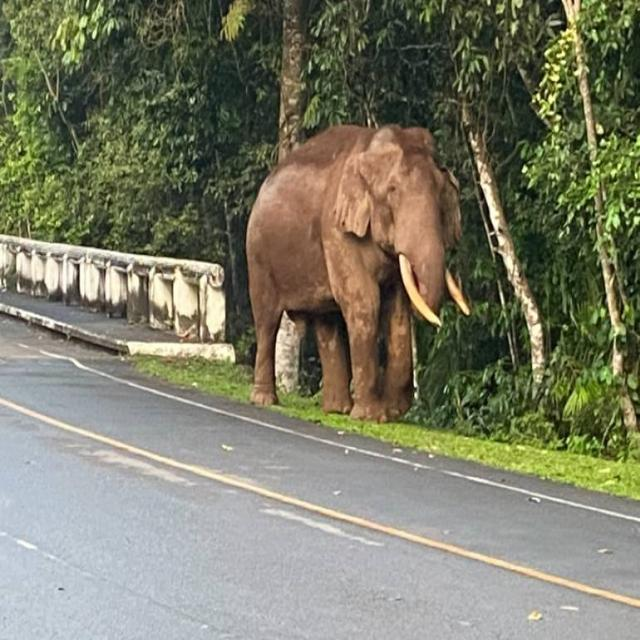Elephant: (248, 127, 471, 429)
